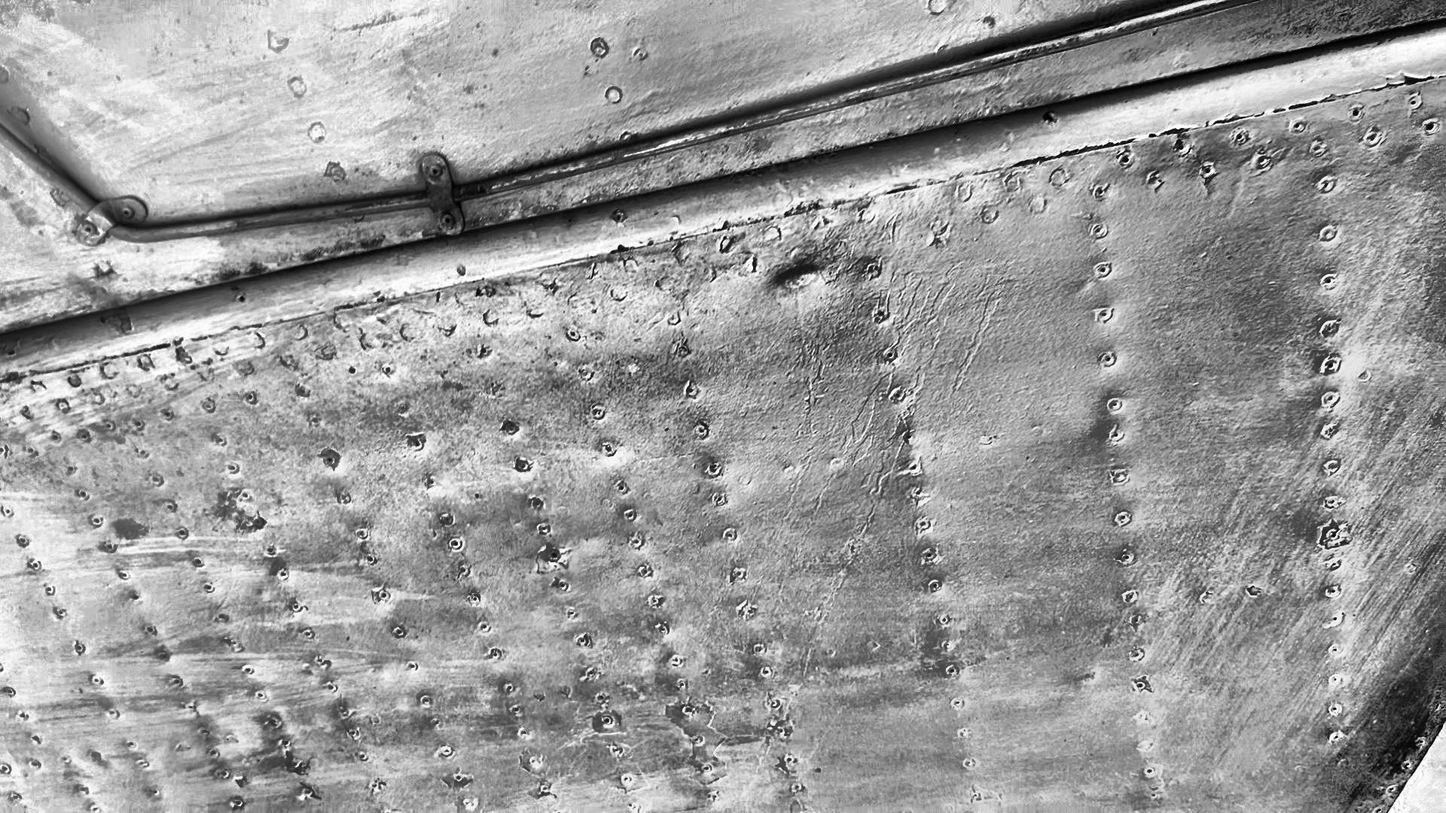dent: (776, 263, 819, 288)
